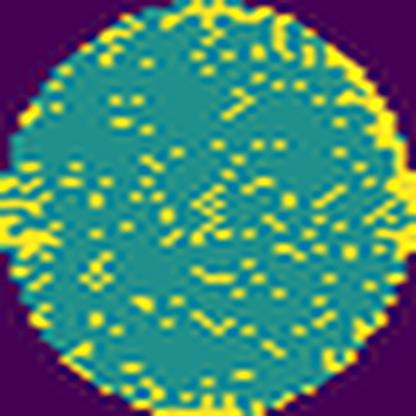Edge-Loc: (323, 27, 416, 262)
